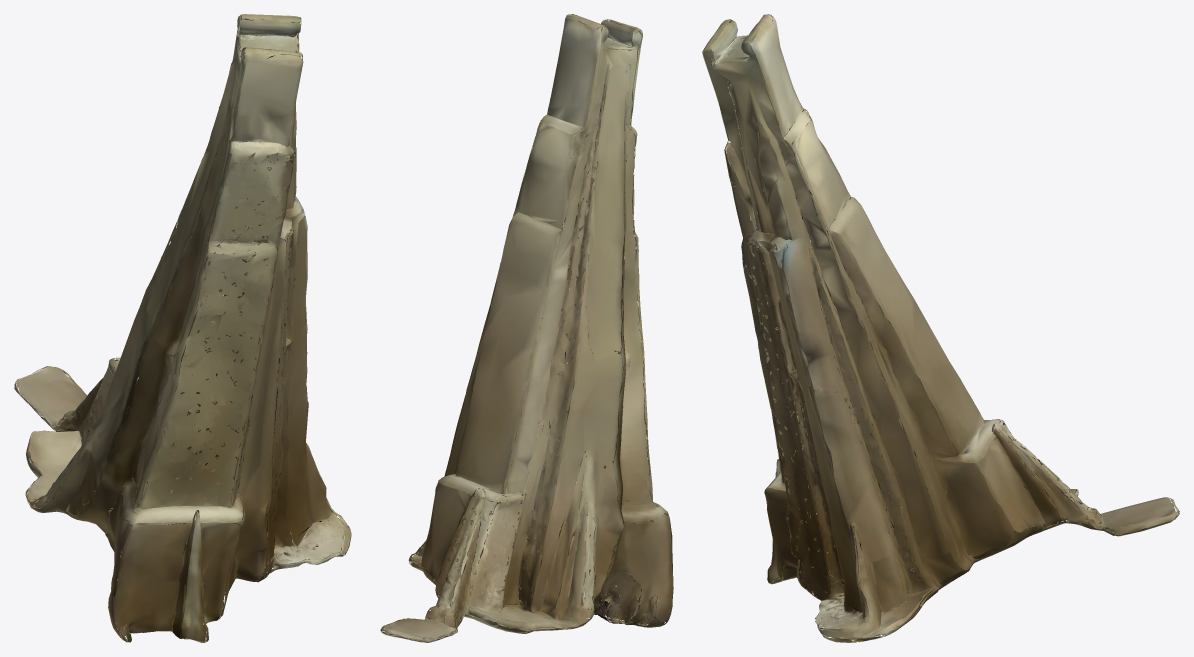
Rendered from jedha-kyber-temple.glb.
3 views of the same model, side by side, from view 1: azimuth 30°, elevation 25°; view 2: azimuth 150°, elevation 25°; view 3: azimuth 270°, elevation 25° (orthographic). The views are drawn at different scales.
Visible parts, largest first — view 1: low; view 2: low; view 3: low.
Part boxes in pixels (x1,y1,x2,y2): low: [14, 14, 351, 642]; low: [380, 14, 673, 642]; low: [702, 14, 1179, 642].
Bounding box in the file's own units: 0.3736 × 0.8604 × 0.6308.
1 material, 1 textured.
